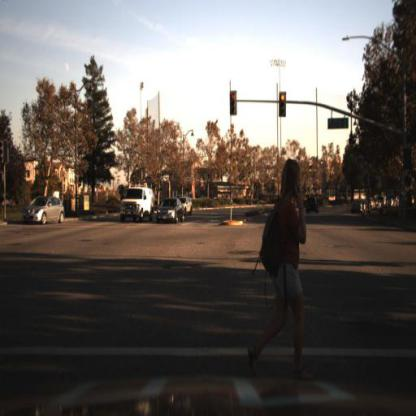car: (119, 182, 157, 233), (19, 194, 66, 231), (156, 193, 187, 228), (300, 188, 324, 223), (179, 194, 195, 219), (304, 193, 320, 217), (185, 198, 200, 219)
pedestrian: (247, 133, 320, 387)
trafficLight-Red: (278, 88, 289, 121), (403, 145, 415, 174)
trafficLight-RedLeft: (229, 88, 239, 119)
